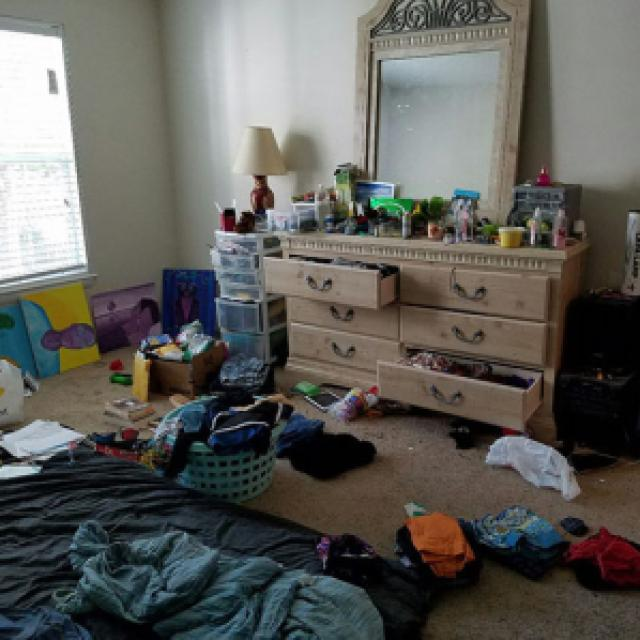mess: (364, 457, 640, 620), (287, 171, 596, 257), (162, 391, 291, 508), (2, 300, 141, 400), (127, 306, 237, 391)
